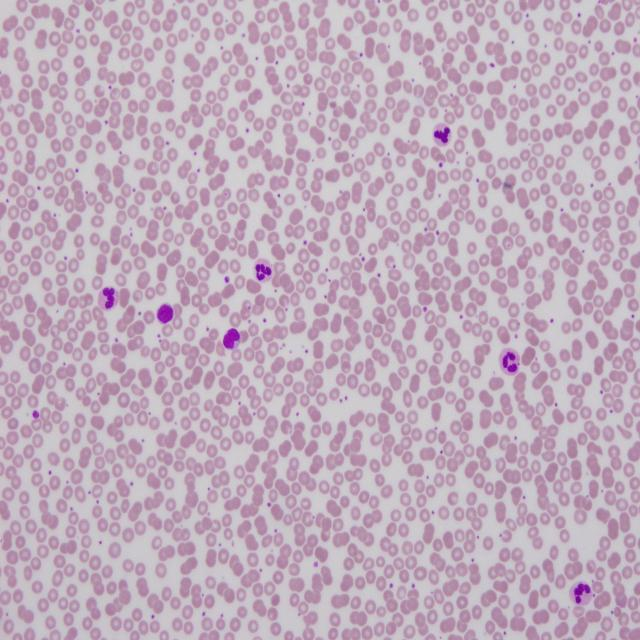cell: (499, 347, 520, 375), (99, 287, 118, 309), (255, 258, 272, 282), (434, 123, 451, 145)
